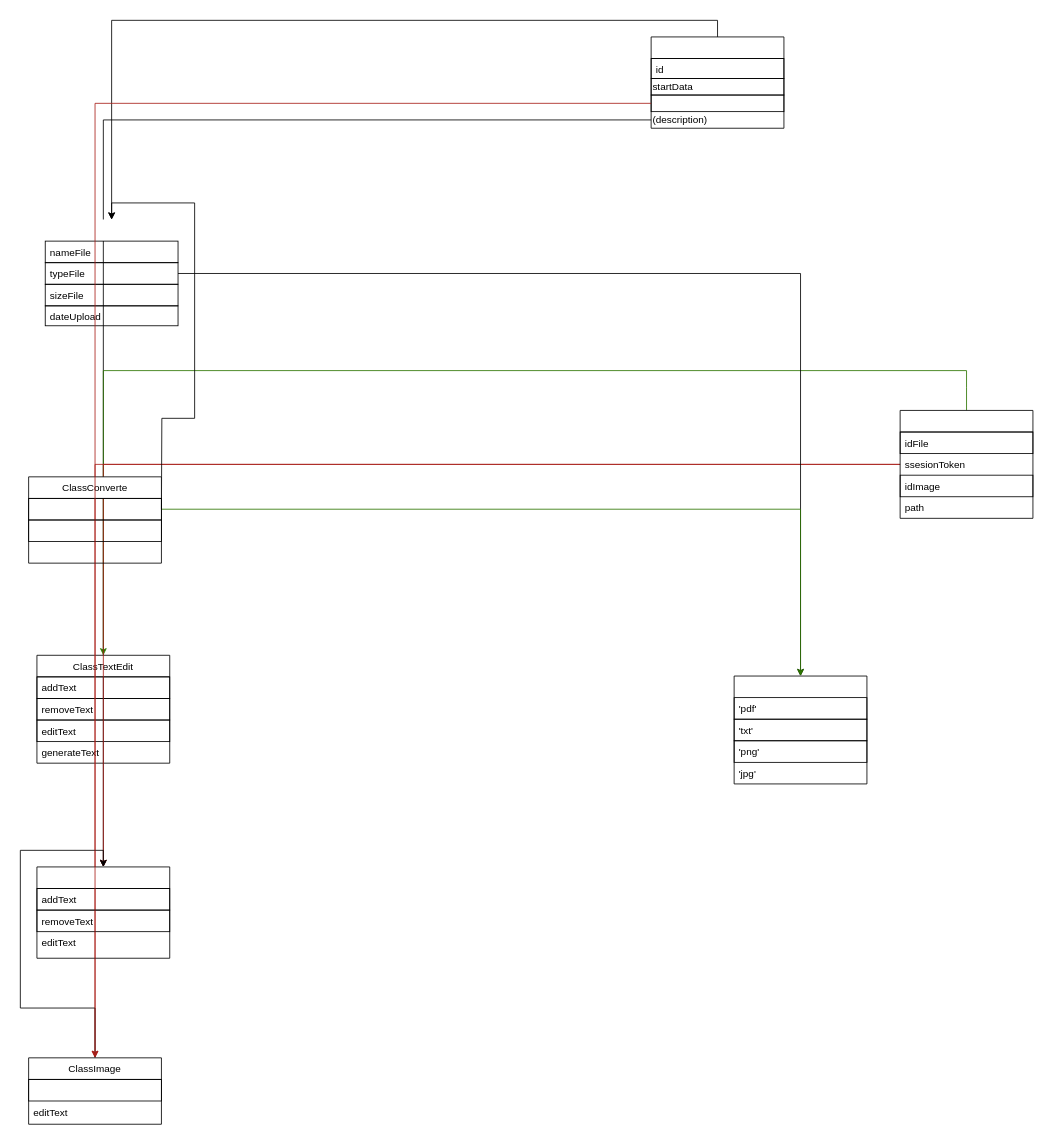
This 1047x1139 diagram has some shape labels left out. Each missing label, with the box of its shape:
AbstractBaseEntities: (650, 36, 784, 128)
AbstractEdit: (899, 410, 1033, 518)
ClassFile: (45, 219, 178, 327)
ClassPdfEdit: (36, 866, 170, 958)
destinationType: (28, 498, 161, 520)
endData: (650, 94, 784, 112)
EnunTypeFile: (733, 675, 867, 784)
size: (28, 1079, 161, 1101)
statusConverte: (28, 519, 161, 542)
